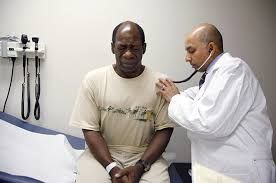Bad: (70, 21, 276, 183)
